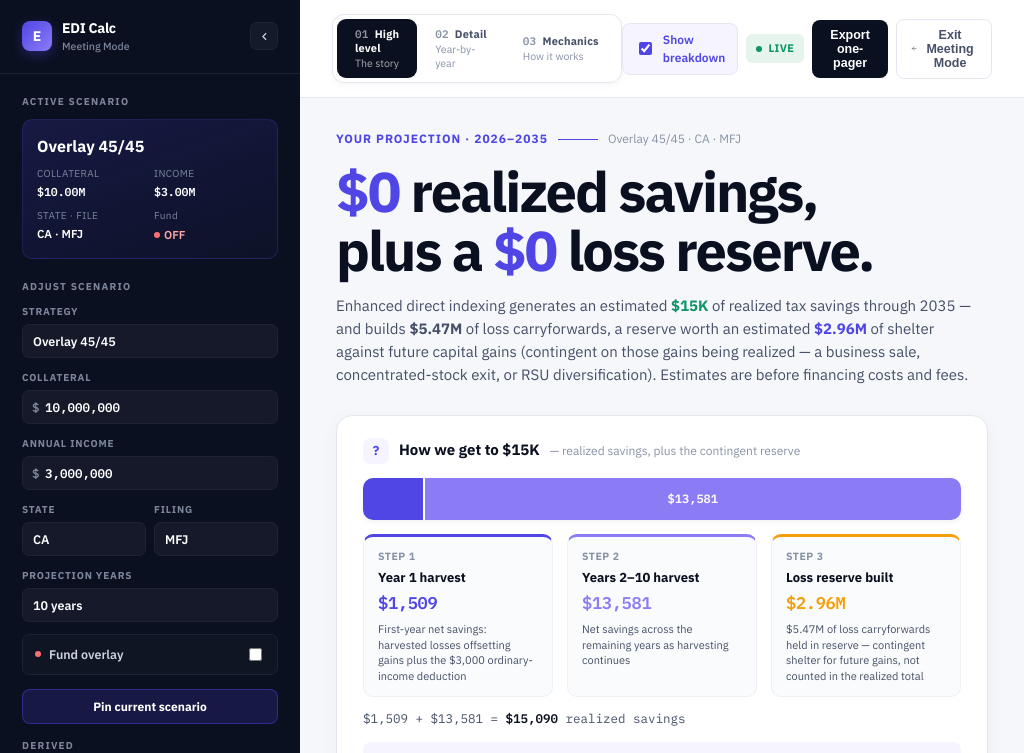
Test case: Meeting Mode mechanics view (mock-meeting review) › EDI mode: no QFAF steps — harvest → reserve → shelter with real numbers
The image size is (1024, 753).
Click the text "Mechanics".
click(561, 41)  # box [523, 34, 599, 48]
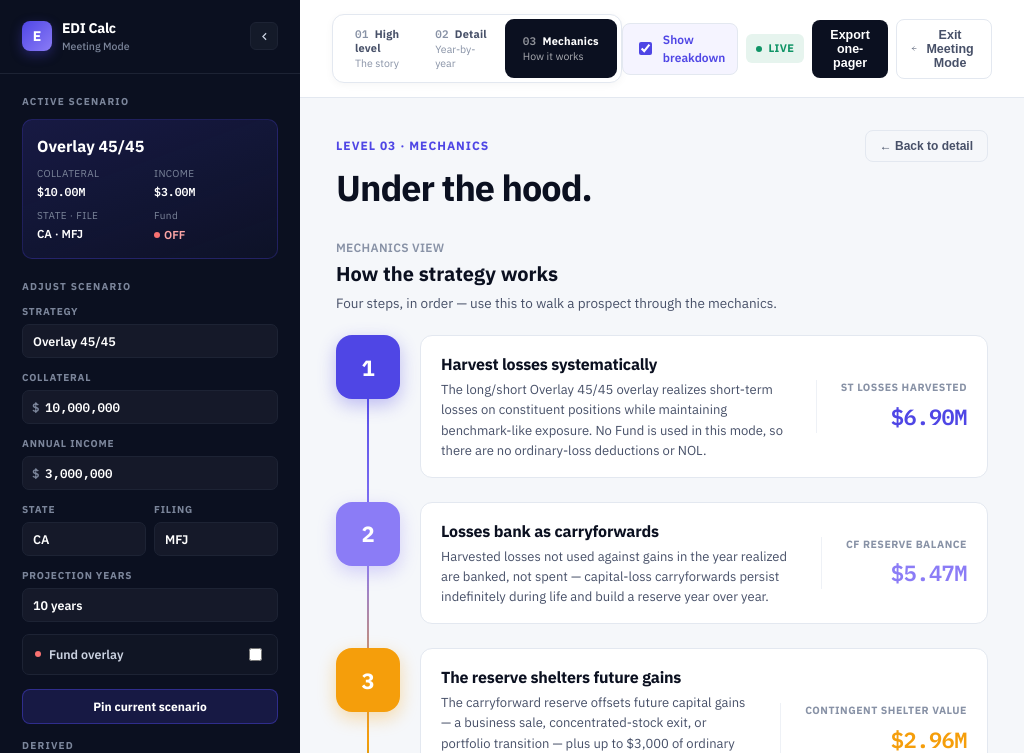
Expected: the text "Contingent shelter value" is shown, [805, 703, 967, 719]
Expected: the text "Harvest losses systematically" is shown, [441, 354, 657, 374]
Expected: the text "CF reserve balance" is shown, [846, 537, 967, 552]
